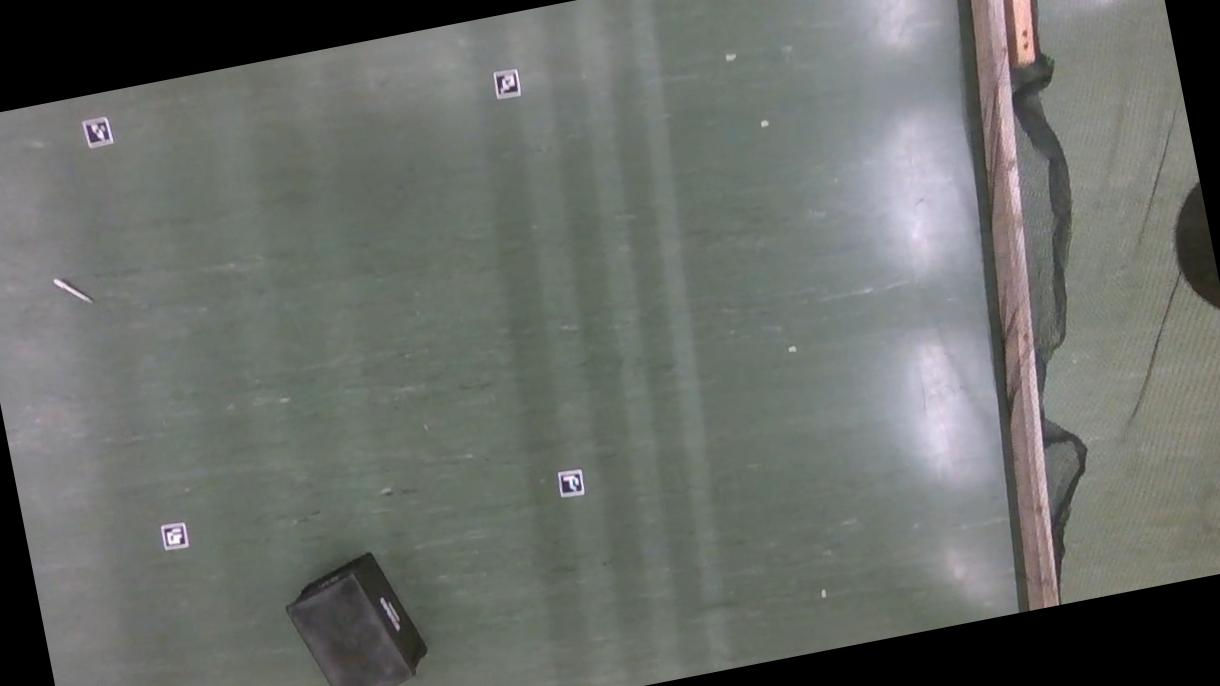probes: (53, 272, 93, 310)
rako: (277, 542, 437, 686)
